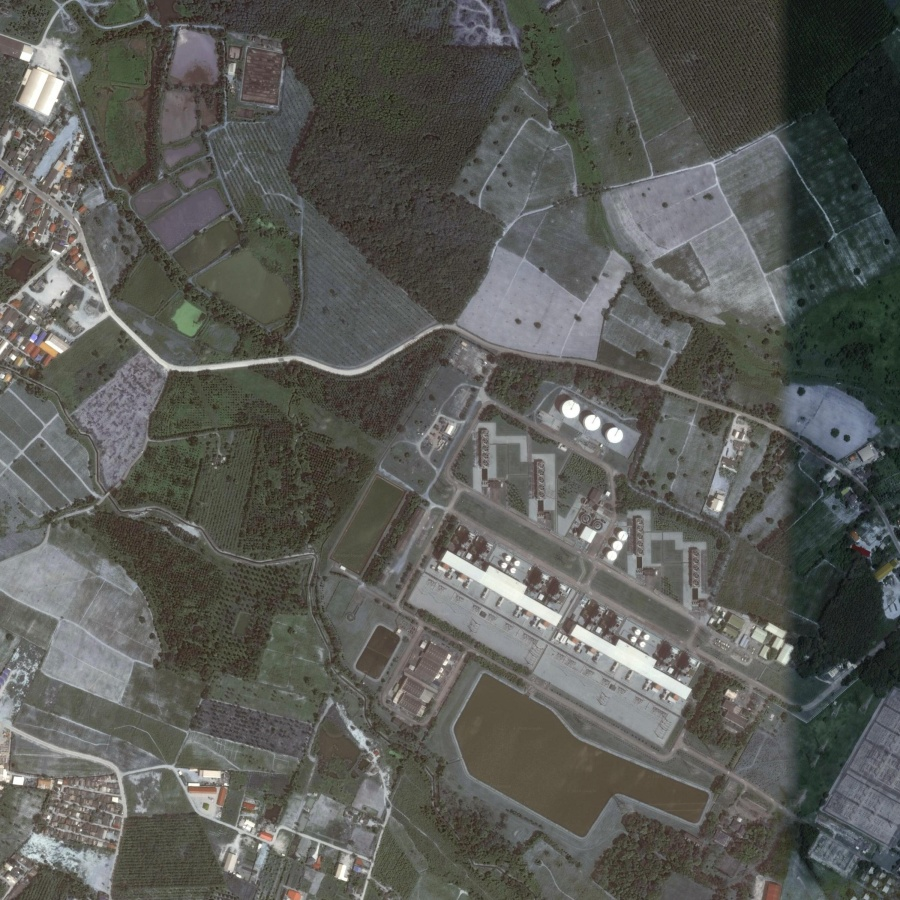PowerPlant: (358, 386, 812, 844)
